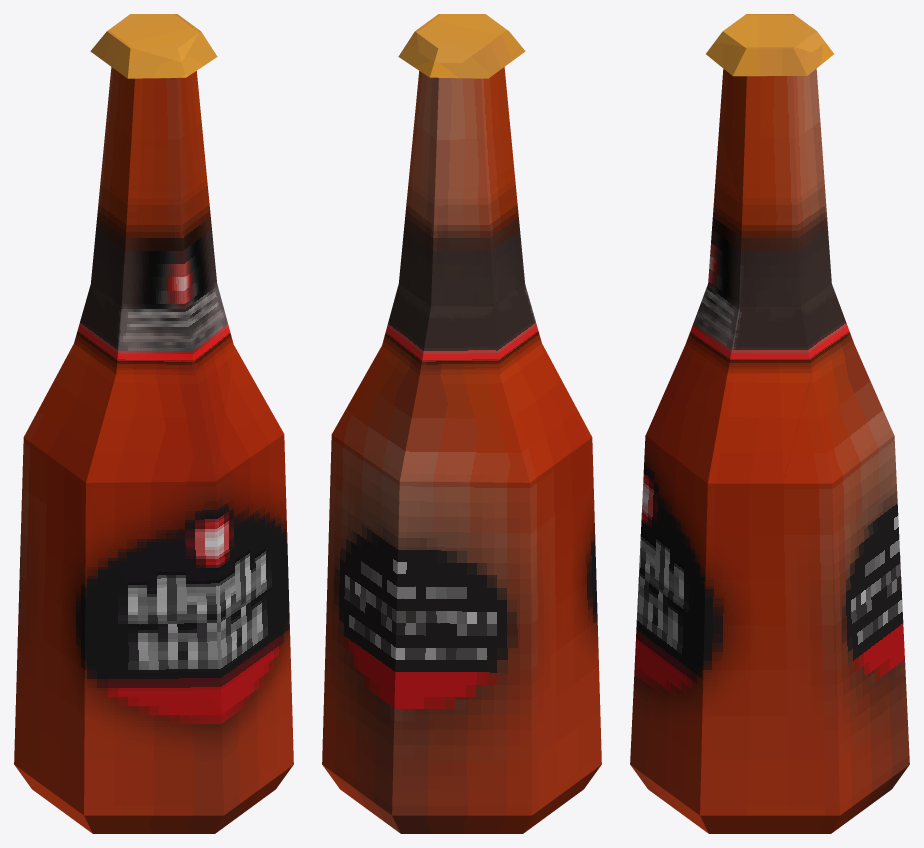
File: beerExplode.glb
3 renders of one model, left to right at view 1: azimuth 30°, elevation 25°; view 2: azimuth 150°, elevation 25°; view 3: azimuth 270°, elevation 25°, orthographic.
Visible parts, largest first — view 1: Birra.005, Birra.008, Birra.007, Birra.001, Birra.009, Birra.003, Birra.004, Birra.002, Birra.006, Birra.010; view 2: Birra.005, Birra.002, Birra.006, Birra.001, Birra.011, Birra.008, Birra.004, Birra.003, Birra.010; view 3: Birra.009, Birra.002, Birra.004, Birra.007, Birra.001, Birra.005, Birra.011, Birra.010, Birra.003.
Boxes of the visible parts, <box> form: Birra.005: <box>22,240,233,630</box>; Birra.008: <box>14,483,223,815</box>; Birra.007: <box>143,345,286,710</box>; Birra.001: <box>90,14,217,193</box>; Birra.009: <box>221,521,293,815</box>; Birra.003: <box>98,147,208,256</box>; Birra.004: <box>91,194,233,374</box>; Birra.002: <box>17,489,84,637</box>; Birra.006: <box>15,765,223,833</box>; Birra.010: <box>215,765,292,833</box>; Birra.005: <box>332,236,594,534</box>; Birra.002: <box>326,434,594,686</box>; Birra.006: <box>392,595,600,833</box>; Birra.001: <box>398,14,525,230</box>; Birra.011: <box>322,595,396,815</box>; Birra.008: <box>531,443,601,815</box>; Birra.004: <box>382,200,520,344</box>; Birra.003: <box>434,129,520,235</box>; Birra.010: <box>323,765,400,833</box>; Birra.009: <box>630,571,839,815</box>; Birra.002: <box>706,435,899,672</box>; Birra.004: <box>685,210,831,483</box>; Birra.007: <box>635,373,782,660</box>; Birra.001: <box>706,14,833,218</box>; Birra.005: <box>646,284,894,483</box>; Birra.011: <box>836,548,909,815</box>; Birra.010: <box>631,765,908,833</box>; Birra.003: <box>712,129,741,218</box>.
Bounding box in the file's own units: 0.1865 × 0.6438 × 0.2154.
Materials: 1 (1 with a texture image).
